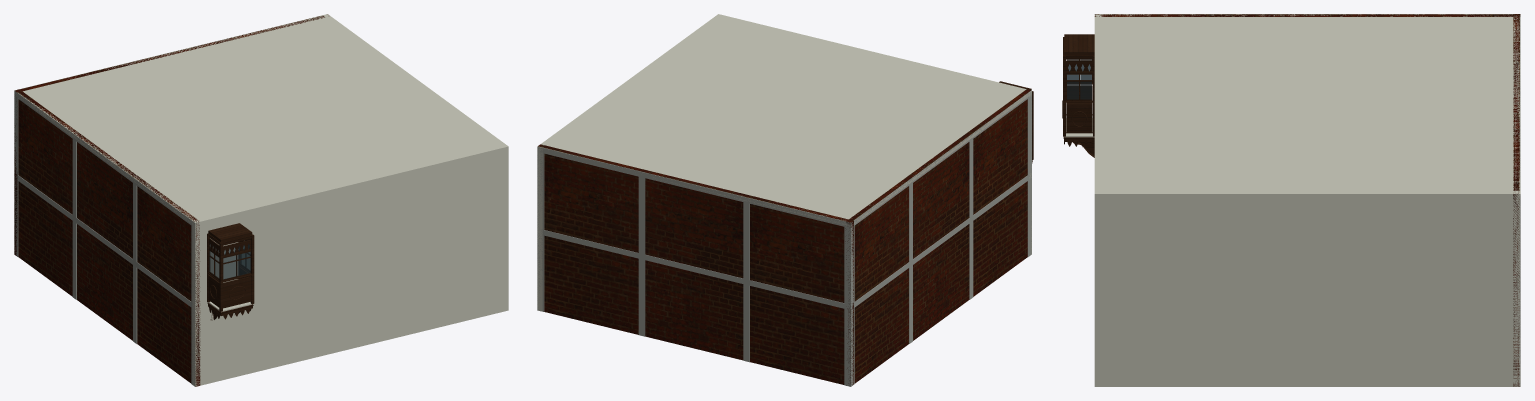
Rendered from building.glb.
The picture shows the model from 3 angles, left to right: view 1: azimuth 30°, elevation 25°; view 2: azimuth 150°, elevation 25°; view 3: azimuth 270°, elevation 25°; orthographic projection. The views are drawn at different scales.
Parts seen in each view (by area): view 1: roof/house:0/roof_slab#0001, house:0/edge0/z0/house:0/edge0/z0/wall_0_0, house:0/edge3/z0/house:0/edge3/z0/wall_0_0, house:0/edge2/z0/house:0/edge2/z0/wall_0_0, house:0/edge3/z0/house:0/edge3/z0/beam_0_0, house:0/edge1/z0/house:0/edge1/z0/wall_0_0, house:0/edge3/z0/house:0/edge3/z0/beam_1_0, balcony/sample/balcony_panel#0002, balcony/sample/balcony_cover#0001; view 2: roof/house:0/roof_slab#0001, house:0/edge2/z0/house:0/edge2/z0/wall_0_0, house:0/edge3/z0/house:0/edge3/z0/wall_0_0, house:0/edge1/z0/house:0/edge1/z0/wall_0_0, house:0/edge2/z0/house:0/edge2/z0/beam_1_0, house:0/edge2/z0/house:0/edge2/z0/beam_0_0, house:0/edge3/z0/house:0/edge3/z0/beam_0_0, house:0/edge0/z0/house:0/edge0/z0/wall_0_0, house:0/edge3/z0/house:0/edge3/z0/beam_1_0, house:0/edge2/z0/house:0/edge2/z0/column_1_0, house:0/edge2/z0/house:0/edge2/z0/column_2_0, house:0/edge2/z0/house:0/edge2/z0/column_1_1 (+3 smaller); view 3: house:0/edge1/z0/house:0/edge1/z0/wall_0_0, roof/house:0/roof_slab#0001, house:0/edge0/z0/house:0/edge0/z0/wall_0_0, house:0/edge2/z0/house:0/edge2/z0/wall_0_0, house:0/edge3/z0/house:0/edge3/z0/wall_0_0, balcony/sample/balcony_panel#0003, balcony/sample/balcony_cover#0001, balcony/sample/balcony_panel#0001.
Boxes of the visible parts, left/top/right/bottom form: roof/house:0/roof_slab#0001: left=15, top=14, right=508, bottom=226; house:0/edge0/z0/house:0/edge0/z0/wall_0_0: left=192, top=144, right=508, bottom=386; house:0/edge3/z0/house:0/edge3/z0/wall_0_0: left=17, top=89, right=200, bottom=386; house:0/edge2/z0/house:0/edge2/z0/wall_0_0: left=14, top=15, right=324, bottom=255; house:0/edge3/z0/house:0/edge3/z0/beam_0_0: left=15, top=174, right=194, bottom=308; house:0/edge1/z0/house:0/edge1/z0/wall_0_0: left=323, top=14, right=508, bottom=311; house:0/edge3/z0/house:0/edge3/z0/beam_1_0: left=14, top=91, right=195, bottom=227; balcony/sample/balcony_panel#0002: left=223, top=276, right=251, bottom=308; balcony/sample/balcony_cover#0001: left=208, top=223, right=252, bottom=242; roof/house:0/roof_slab#0001: left=541, top=15, right=1031, bottom=226; house:0/edge2/z0/house:0/edge2/z0/wall_0_0: left=538, top=144, right=853, bottom=384; house:0/edge3/z0/house:0/edge3/z0/wall_0_0: left=845, top=89, right=1030, bottom=383; house:0/edge1/z0/house:0/edge1/z0/wall_0_0: left=537, top=15, right=722, bottom=311; house:0/edge2/z0/house:0/edge2/z0/beam_1_0: left=538, top=147, right=851, bottom=228; house:0/edge2/z0/house:0/edge2/z0/beam_0_0: left=537, top=229, right=851, bottom=310; house:0/edge3/z0/house:0/edge3/z0/beam_0_0: left=851, top=172, right=1031, bottom=309; house:0/edge0/z0/house:0/edge0/z0/wall_0_0: left=715, top=14, right=1031, bottom=253; house:0/edge3/z0/house:0/edge3/z0/beam_1_0: left=850, top=90, right=1031, bottom=227; house:0/edge2/z0/house:0/edge2/z0/column_1_0: left=844, top=309, right=851, bottom=386; house:0/edge2/z0/house:0/edge2/z0/column_2_0: left=638, top=177, right=645, bottom=254; house:0/edge2/z0/house:0/edge2/z0/column_1_1: left=844, top=227, right=851, bottom=304; house:0/edge1/z0/house:0/edge1/z0/wall_0_0: left=1094, top=191, right=1520, bottom=386; roof/house:0/roof_slab#0001: left=1094, top=14, right=1520, bottom=198; house:0/edge0/z0/house:0/edge0/z0/wall_0_0: left=1094, top=14, right=1101, bottom=386; house:0/edge2/z0/house:0/edge2/z0/wall_0_0: left=1513, top=14, right=1519, bottom=386; house:0/edge3/z0/house:0/edge3/z0/wall_0_0: left=1094, top=14, right=1520, bottom=16; balcony/sample/balcony_panel#0003: left=1066, top=103, right=1092, bottom=133; balcony/sample/balcony_cover#0001: left=1064, top=34, right=1094, bottom=55; balcony/sample/balcony_panel#0001: left=1066, top=85, right=1092, bottom=103.
Size of the model in its own units: 12 by 6 by 12.91.
5 materials, 2 textured.
